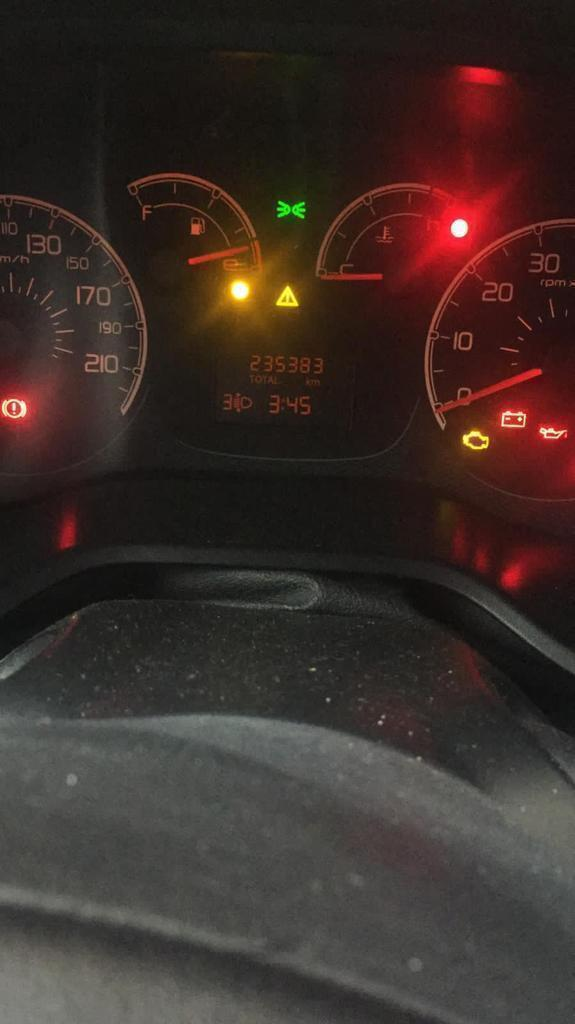2: (249, 354, 260, 371)
3: (267, 394, 279, 414), (312, 356, 323, 375), (262, 354, 273, 372), (288, 355, 298, 373), (222, 392, 232, 410)
4: (286, 395, 298, 412)
5: (299, 395, 310, 414), (275, 355, 285, 372)
8: (299, 356, 310, 374)
X: (311, 379, 321, 386), (262, 374, 268, 385), (274, 375, 280, 385), (268, 374, 273, 385), (248, 374, 254, 383), (255, 375, 261, 384), (281, 398, 285, 411), (305, 377, 311, 385)
odometer: (211, 348, 351, 426)
